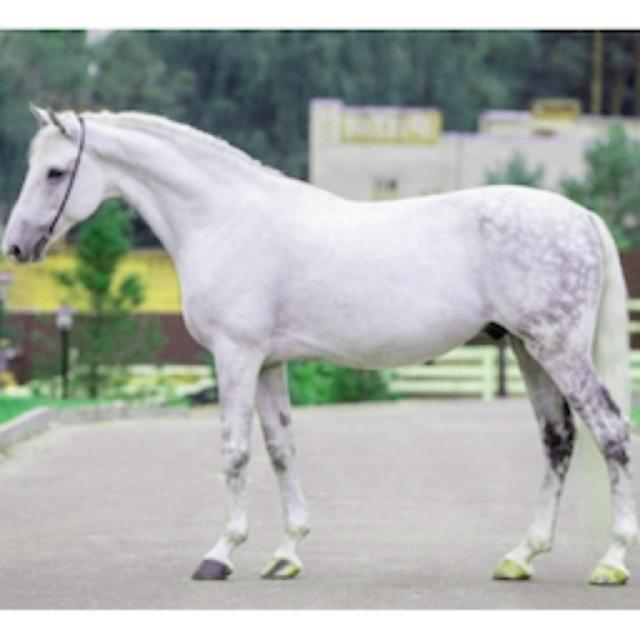Horse: (0, 95, 638, 590)
